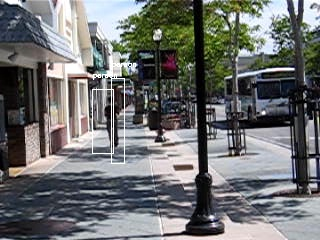person: (104, 97, 121, 148), (103, 97, 120, 148), (105, 97, 122, 148), (104, 96, 121, 147), (104, 98, 121, 149)
target_negative: (80, 48, 261, 169), (146, 108, 295, 165), (78, 122, 211, 173), (135, 109, 228, 158), (125, 33, 142, 177), (188, 147, 223, 188)
